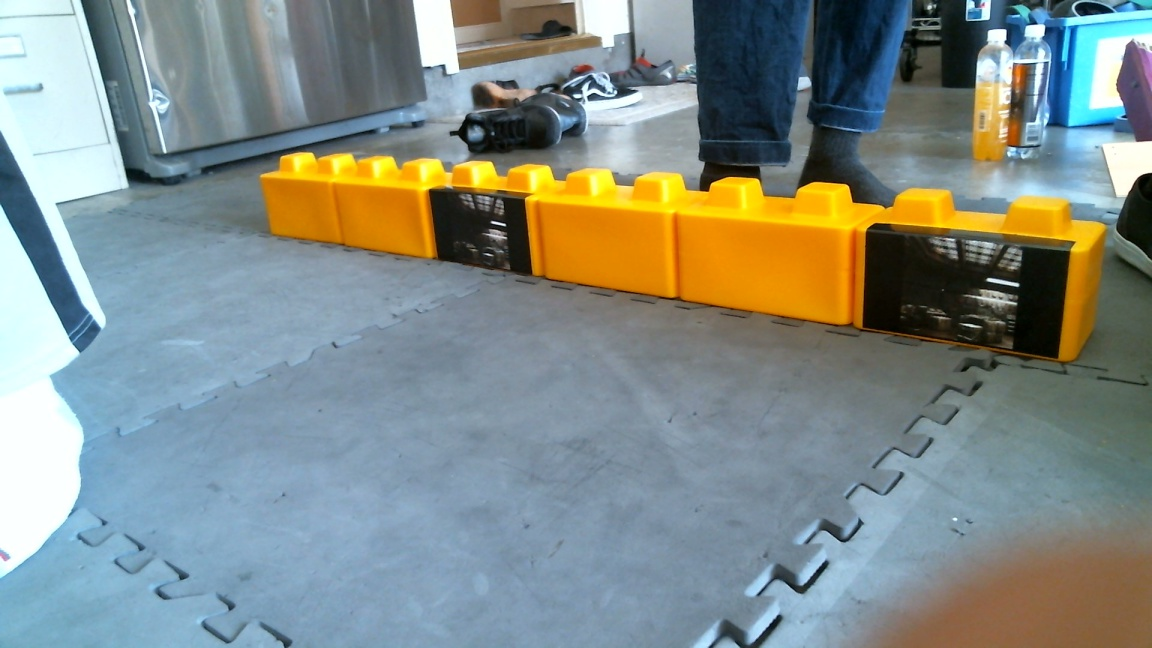center: (334, 156, 681, 300)
left: (426, 161, 856, 328)
right: (537, 152, 1086, 368), (253, 138, 535, 287)
